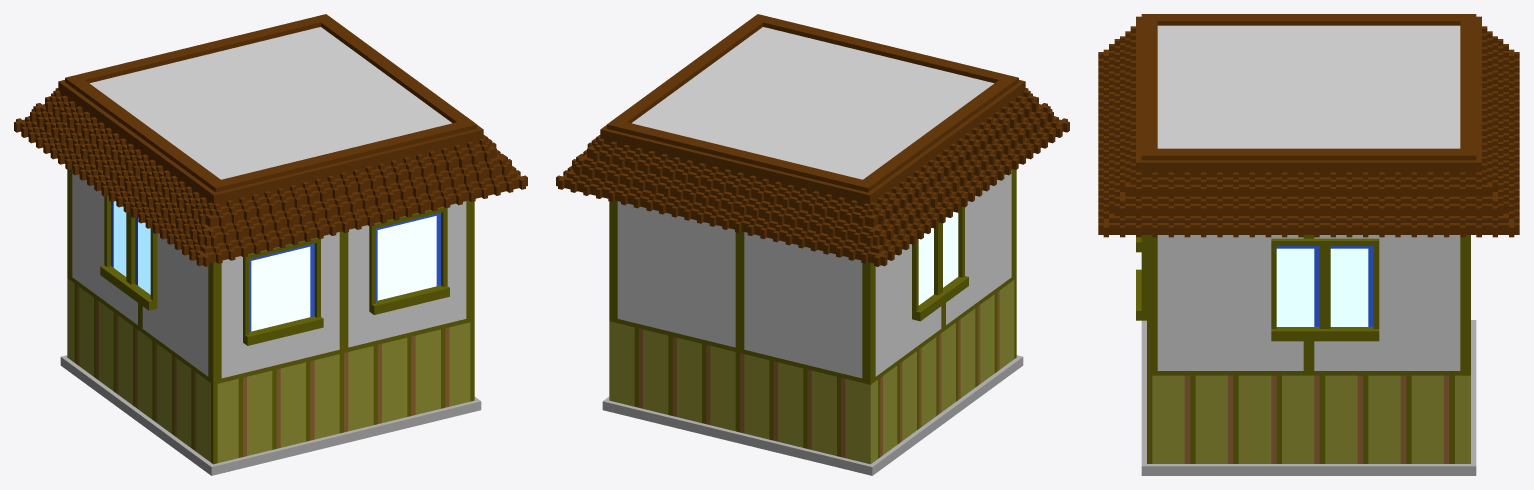
File: typeThirteen.glb
3 views of the same model, side by side, from view 1: azimuth 30°, elevation 25°; view 2: azimuth 150°, elevation 25°; view 3: azimuth 270°, elevation 25° (orthographic). The views are drawn at different scales.
Parts seen in each view (by area): view 1: ObjObject; view 2: ObjObject; view 3: ObjObject.
Boxes of the visible parts, x1,y1,x2,y2 form: ObjObject: (14, 14, 527, 475); ObjObject: (556, 14, 1069, 475); ObjObject: (1098, 14, 1519, 475).
Bounding box in the file's own units: 7.8 × 6.5 × 7.8.
Materials: 2 (1 with a texture image).
